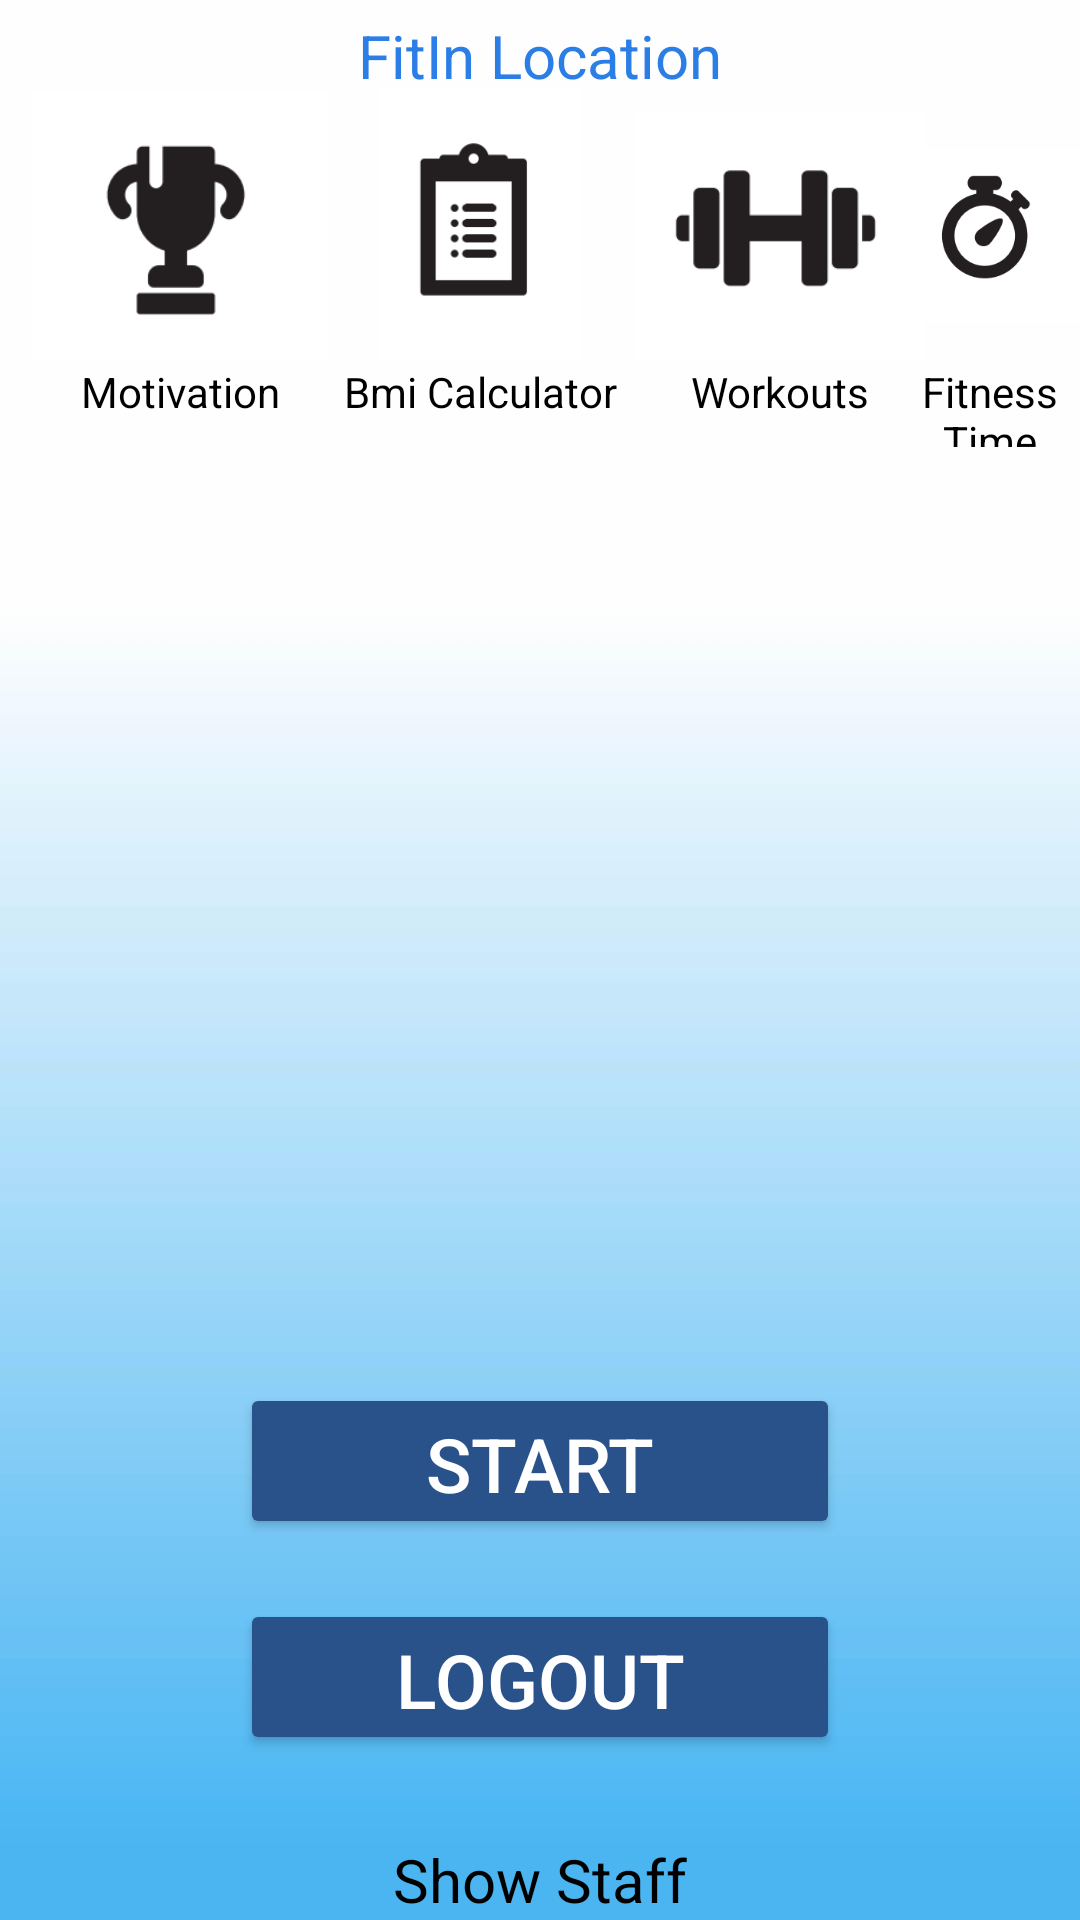

Screen size 1080x1920. Icon name, then its box in pixels as [x1, y1, x2, y2]:
gymachievement: [106, 145, 245, 315]
gymmode: [675, 170, 876, 287]
gymtime: [942, 175, 1030, 279]
